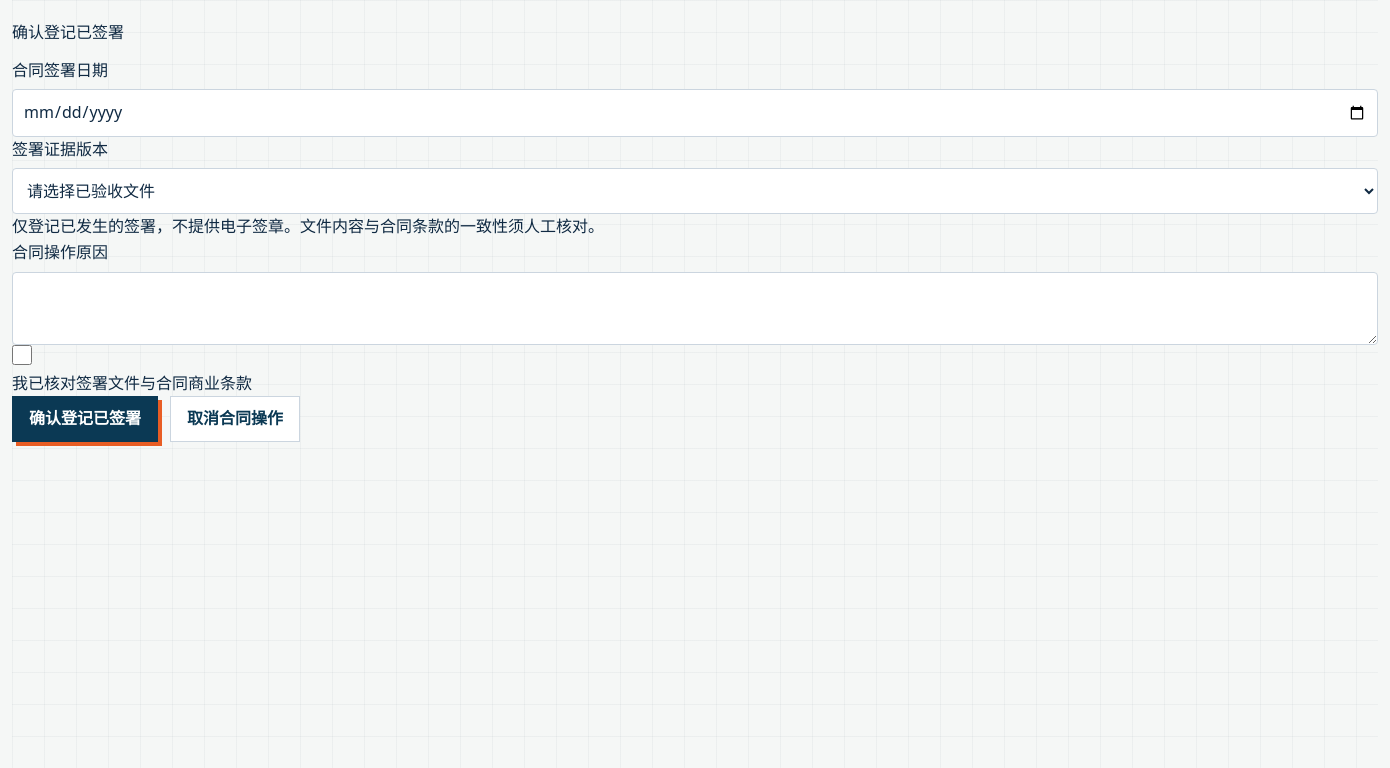
requires reviewed evidence, date and explicit confirmation before signing
Click the button "确认登记已签署": (85,419) [12, 396, 158, 442]
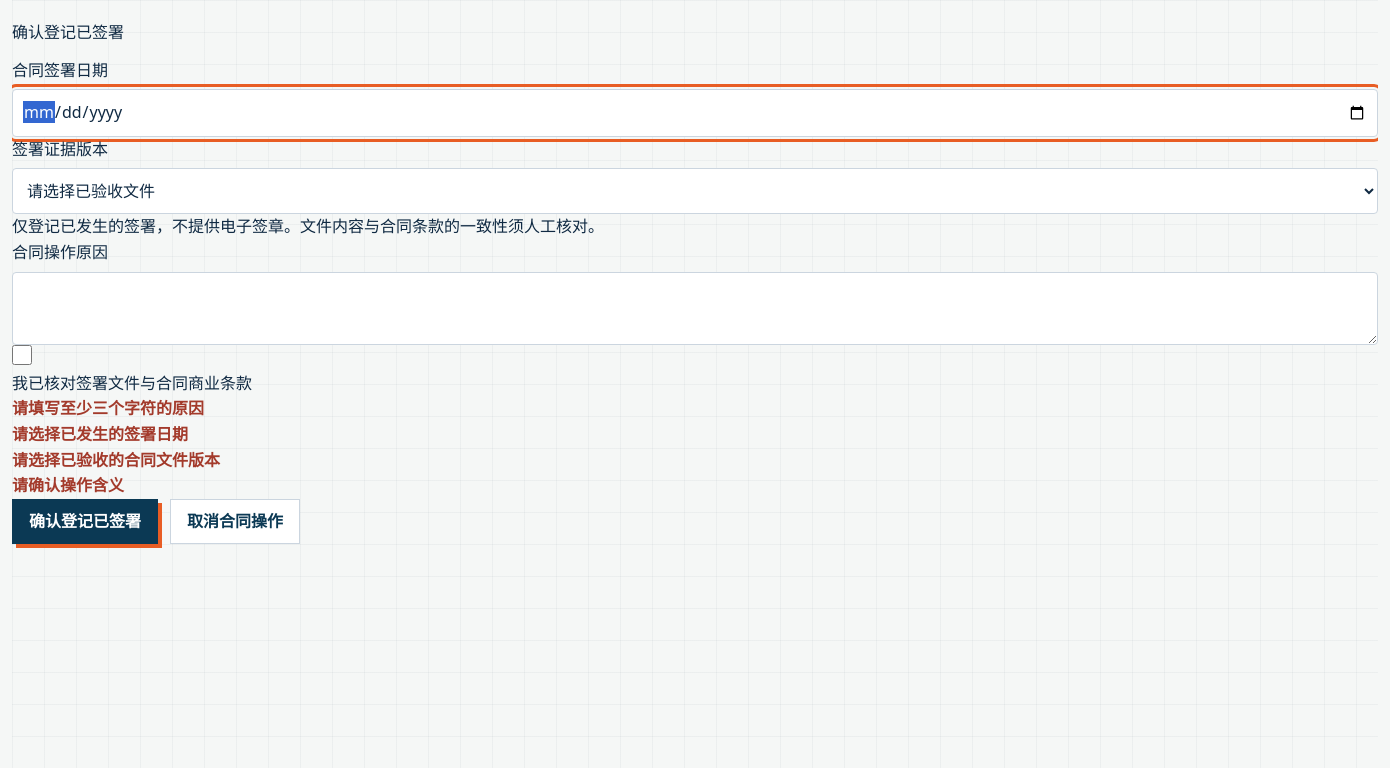
Check: the text "请选择已发生的签署日期" is shown, box [12, 423, 188, 445]
Check: the text "请选择已验收的合同文件版本" is shown, box [12, 448, 220, 470]
Check: the text "请确认操作含义" is shown, box [12, 474, 124, 496]
